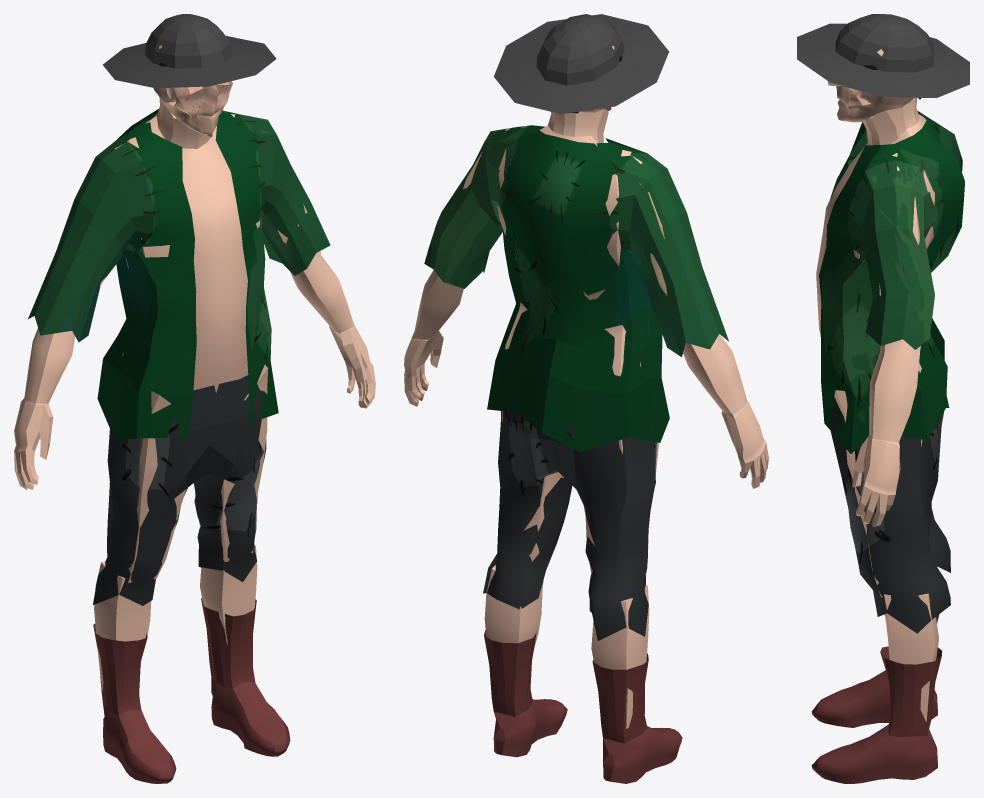
The model's file is Male Villager 6.fbx.
3 renders of one model, left to right at view 1: azimuth 30°, elevation 25°; view 2: azimuth 150°, elevation 25°; view 3: azimuth 270°, elevation 25°, orthographic.
Visible parts, largest first — view 1: Villager_1_Shirt5, Villager_1_Pants3, Male_Villager6_Torso, pSphere3, Villager6_Right_Boot, Villager6_Left_Leg, Male_Villager6_Left_Arm_Part_2, Male_Villager6_Right_Arm_Part_2, Male_Villager6_Head, Villager6_Left_Leg_Part, Villager6_Right_Leg_Part, Male_Villager6_Left_Leg_Part_1 (+1 smaller); view 2: Villager_1_Shirt5, Villager_1_Pants3, pSphere3, Villager6_Left_Leg, Villager6_Right_Boot, Male_Villager6_Left_Arm_Part_2, Male_Villager6_Right_Arm_Part_2, Male_Villager6_Torso, Villager6_Left_Leg_Part, Villager6_Right_Leg_Part, Male_Villager6_Right_Leg_Part_1; view 3: Villager_1_Shirt5, Villager_1_Pants3, pSphere3, Villager6_Right_Boot, Male_Villager6_Right_Arm_Part_2, Male_Villager6_Torso, Villager6_Left_Leg, Villager6_Right_Leg_Part, Male_Villager6_Head, Male_Villager6_Right_Leg_Part_1.
Part boxes in pixels (<box>): Villager_1_Shirt5: <box>28,109,330,439</box>; Villager_1_Pants3: <box>93,375,266,605</box>; Male_Villager6_Torso: <box>122,97,259,392</box>; pSphere3: <box>103,14,276,88</box>; Villager6_Right_Boot: <box>201,598,290,756</box>; Villager6_Left_Leg: <box>93,623,176,783</box>; Male_Villager6_Left_Arm_Part_2: <box>14,328,74,489</box>; Male_Villager6_Right_Arm_Part_2: <box>290,251,375,408</box>; Male_Villager6_Head: <box>153,45,232,136</box>; Villager6_Left_Leg_Part: <box>94,561,151,690</box>; Villager6_Right_Leg_Part: <box>200,544,257,645</box>; Male_Villager6_Left_Leg_Part_1: <box>128,391,186,582</box>; Villager_1_Shirt5: <box>424,125,728,452</box>; Villager_1_Pants3: <box>483,411,656,640</box>; pSphere3: <box>493,14,668,114</box>; Villager6_Left_Leg: <box>592,653,682,783</box>; Villager6_Right_Boot: <box>484,630,567,757</box>; Male_Villager6_Left_Arm_Part_2: <box>683,334,768,488</box>; Male_Villager6_Right_Arm_Part_2: <box>404,270,463,406</box>; Male_Villager6_Torso: <box>497,109,640,376</box>; Villager6_Left_Leg_Part: <box>591,585,649,728</box>; Villager6_Right_Leg_Part: <box>484,565,543,646</box>; Male_Villager6_Right_Leg_Part_1: <box>502,411,563,562</box>; Villager_1_Shirt5: <box>819,111,964,453</box>; Villager_1_Pants3: <box>829,405,950,633</box>; pSphere3: <box>797,14,969,97</box>; Villager6_Right_Boot: <box>811,646,942,783</box>; Male_Villager6_Right_Arm_Part_2: <box>852,339,920,526</box>; Male_Villager6_Torso: <box>816,97,934,372</box>; Villager6_Left_Leg: <box>811,614,939,727</box>; Villager6_Right_Leg_Part: <box>884,593,938,721</box>; Male_Villager6_Head: <box>828,49,913,122</box>; Male_Villager6_Right_Leg_Part_1: <box>834,390,922,597</box>.
Size of the model in its own units: 24.09 by 47.4 by 10.16.
11 materials, 5 textured.
